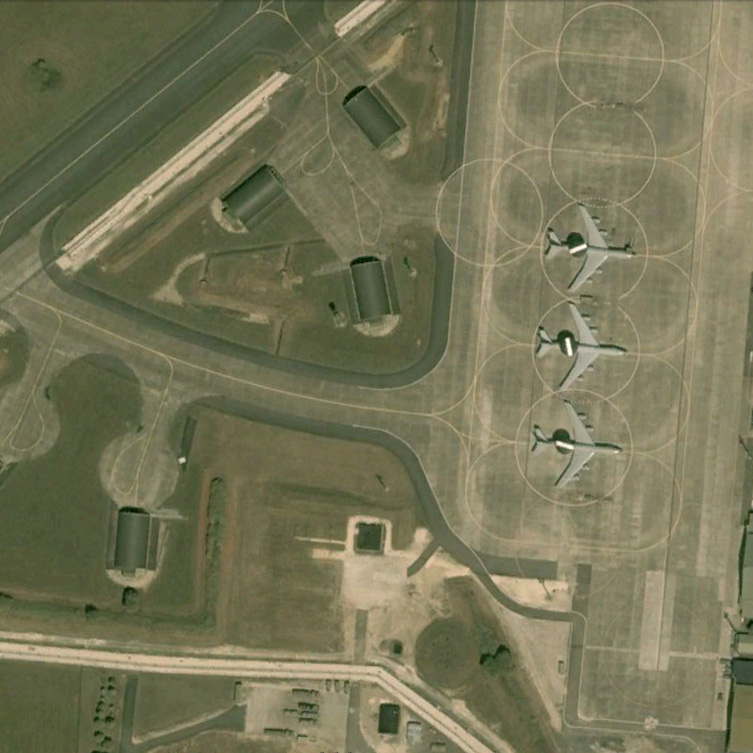A7: (534, 301, 629, 390), (529, 399, 623, 488), (545, 203, 636, 293)
